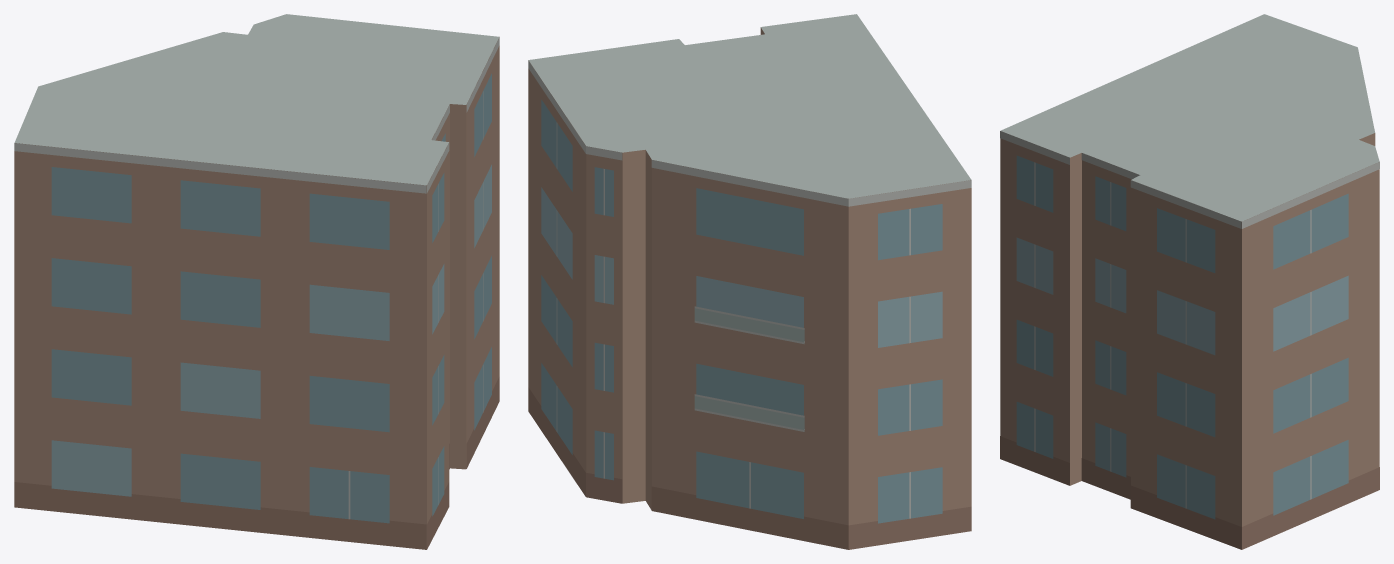
File: survey-upis-32690538.glb
The picture shows the model from 3 angles, left to right: view 1: azimuth 30°, elevation 25°; view 2: azimuth 150°, elevation 25°; view 3: azimuth 270°, elevation 25°; orthographic projection. The views are drawn at different scales.
Parts seen in each view (by area): view 1: survey-upis-32690538.tmp; view 2: survey-upis-32690538.tmp; view 3: survey-upis-32690538.tmp.
Boxes of the visible parts, x1,y1,x2,y2 form: survey-upis-32690538.tmp: (14, 14, 499, 549); survey-upis-32690538.tmp: (528, 14, 971, 549); survey-upis-32690538.tmp: (1000, 14, 1379, 549).
Bounding box in the file's own units: 14.65 × 10.79 × 11.32.
